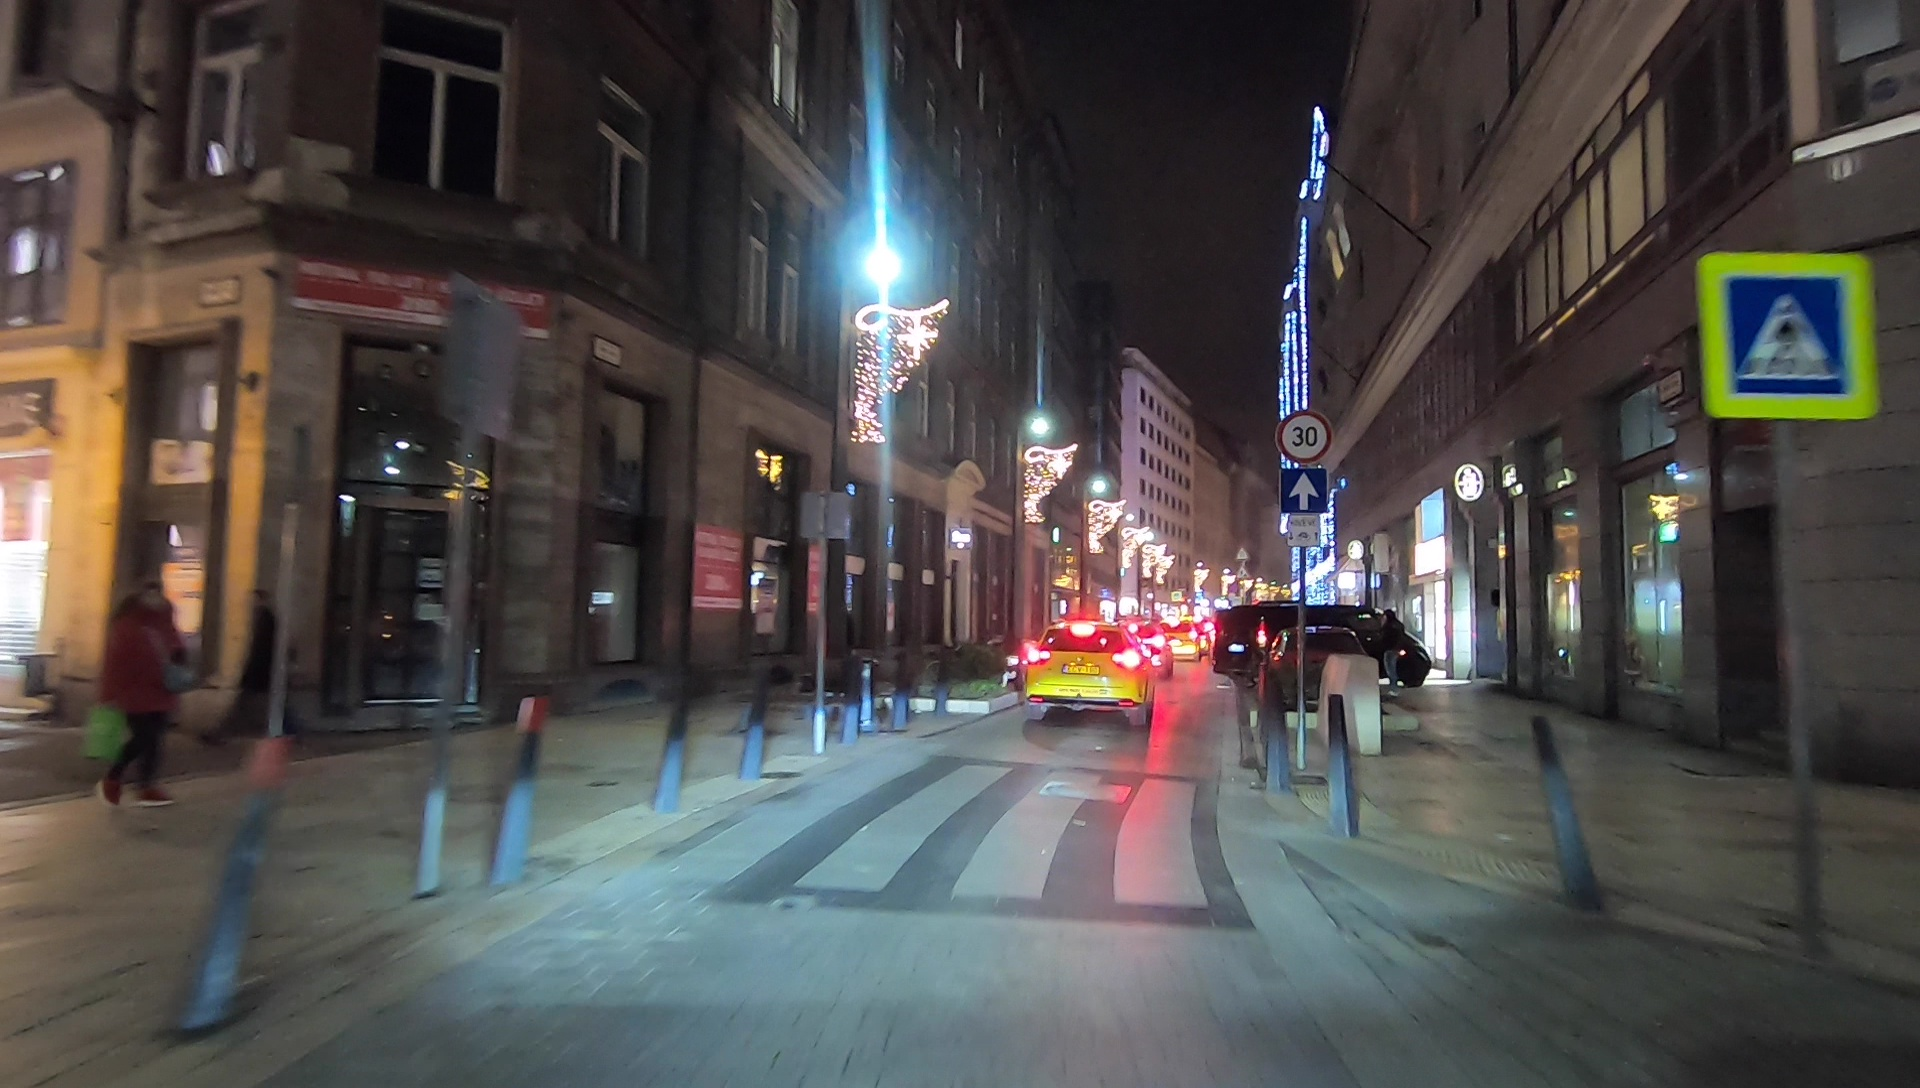person: (93, 580, 193, 813)
